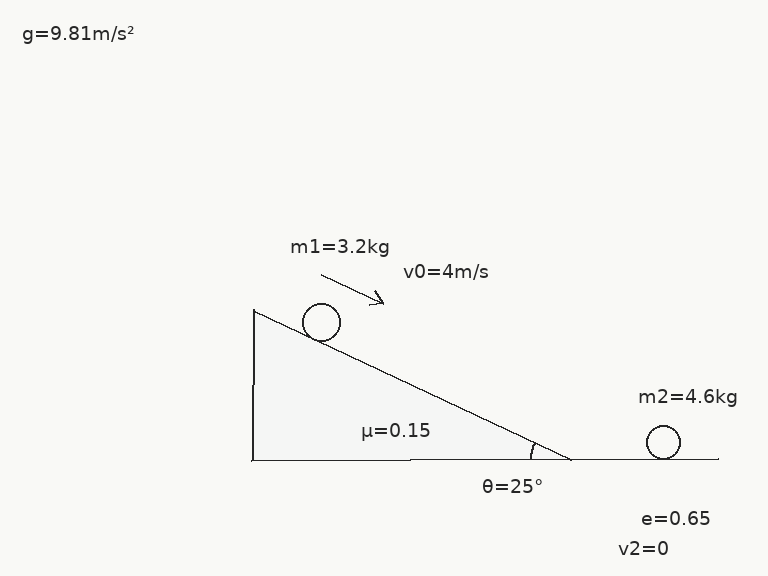ball: (300, 301, 342, 343), (644, 423, 682, 461)
ramp: (251, 309, 573, 461)
